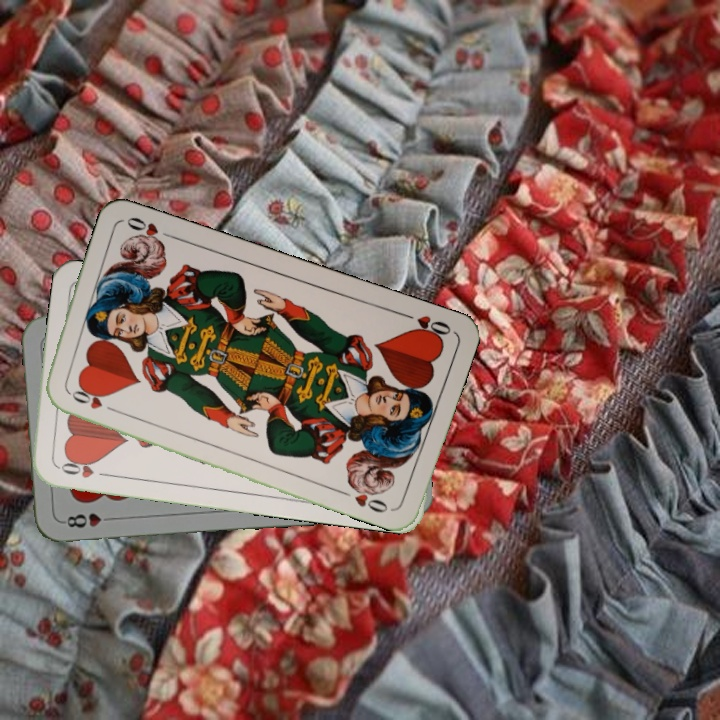H8: (58, 509, 117, 530)
HO: (397, 308, 454, 343), (64, 386, 121, 416), (53, 454, 111, 481)
